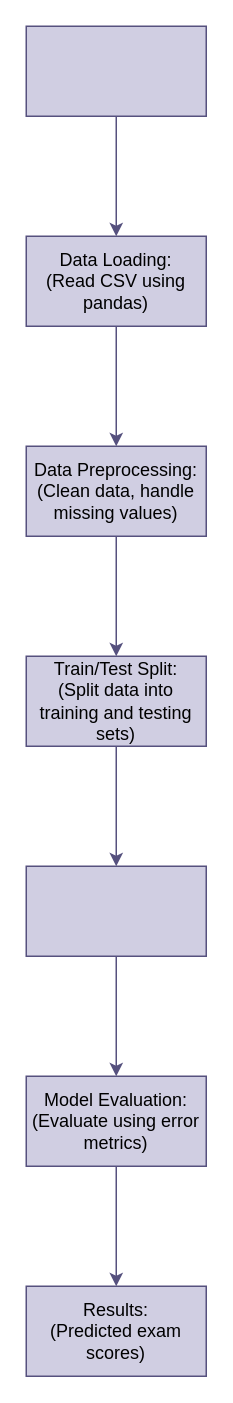
Some shapes in this 233 by 1403 pixel diagram are drawn without their labels. The centre of each missing label's shape, as x and y in pixels:
"Dataset Selection: (Open CSV dataset)" belongs at (x=115, y=70).
"Model Training: (Train regression model)" belongs at (x=115, y=910).
